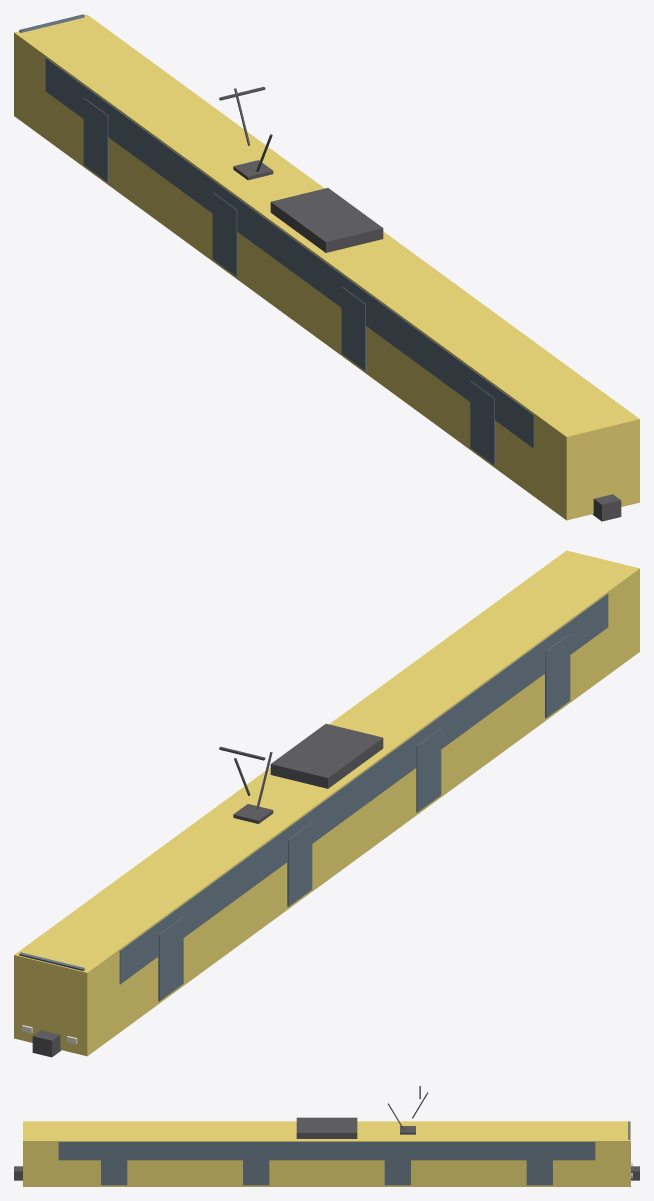
The model's file is tram.glb.
3 renders of one model, top to bottom at view 1: azimuth 30°, elevation 25°; view 2: azimuth 150°, elevation 25°; view 3: azimuth 270°, elevation 25°, orthographic. The views are drawn at different scales.
Parts seen in each view (by area): view 1: tram; view 2: tram; view 3: tram.
Boxes of the visible parts, box(x1,y1,x2,y2) form: tram: box(14, 14, 639, 521); tram: box(14, 550, 639, 1057); tram: box(14, 1086, 639, 1186).
Size of the model in its own units: 2.38 by 4.68 by 30.9.
